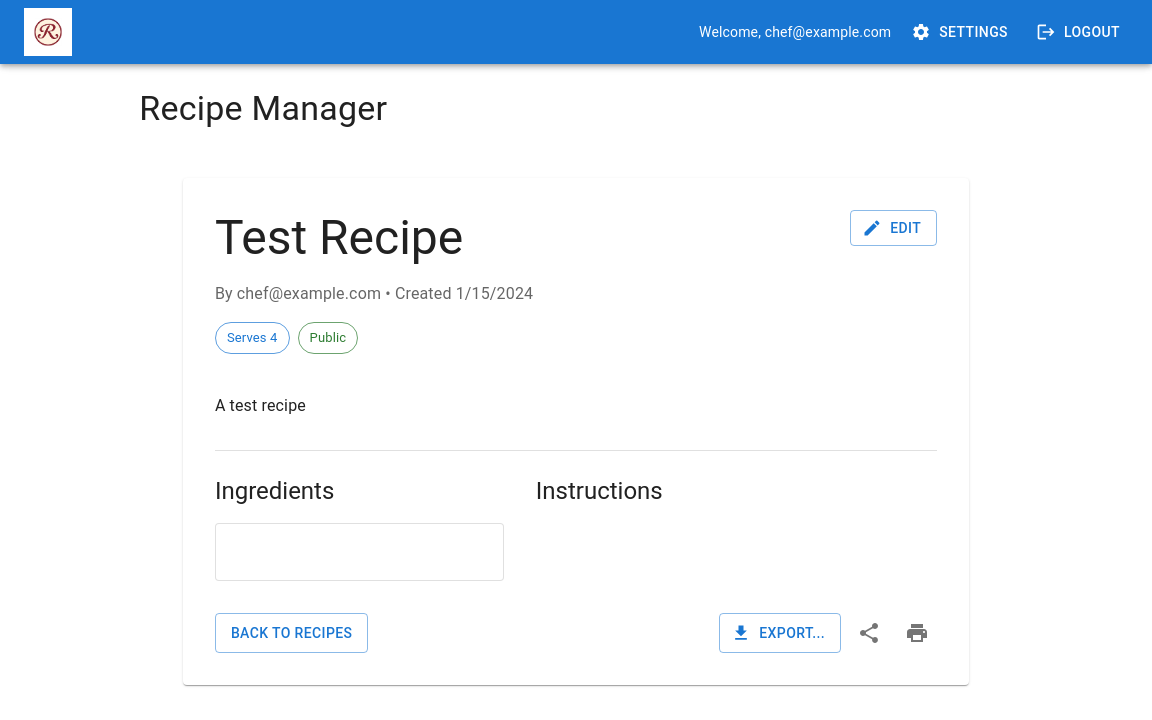
Test: RecipeViewPage › PDF font size › font size selector includes Small, Medium, Large options
The width and height of the screenshot is (1152, 720).
expect the heading "Test Recipe" is shown: met, box [215,209,463,266]
Click the button "Export...": (780, 633) [719,613,841,653]
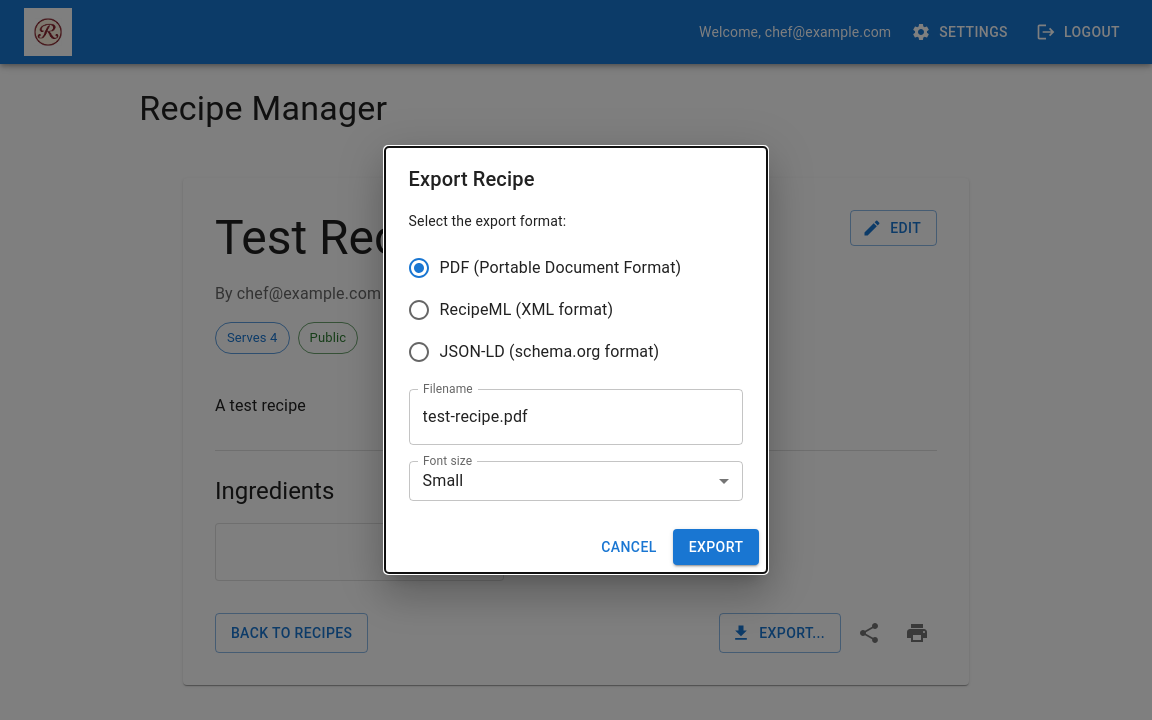
expect the dropdown named "font size" is shown: met
Press the mouse on the dropdown named "font size": (443, 481) [423,471,463,490]
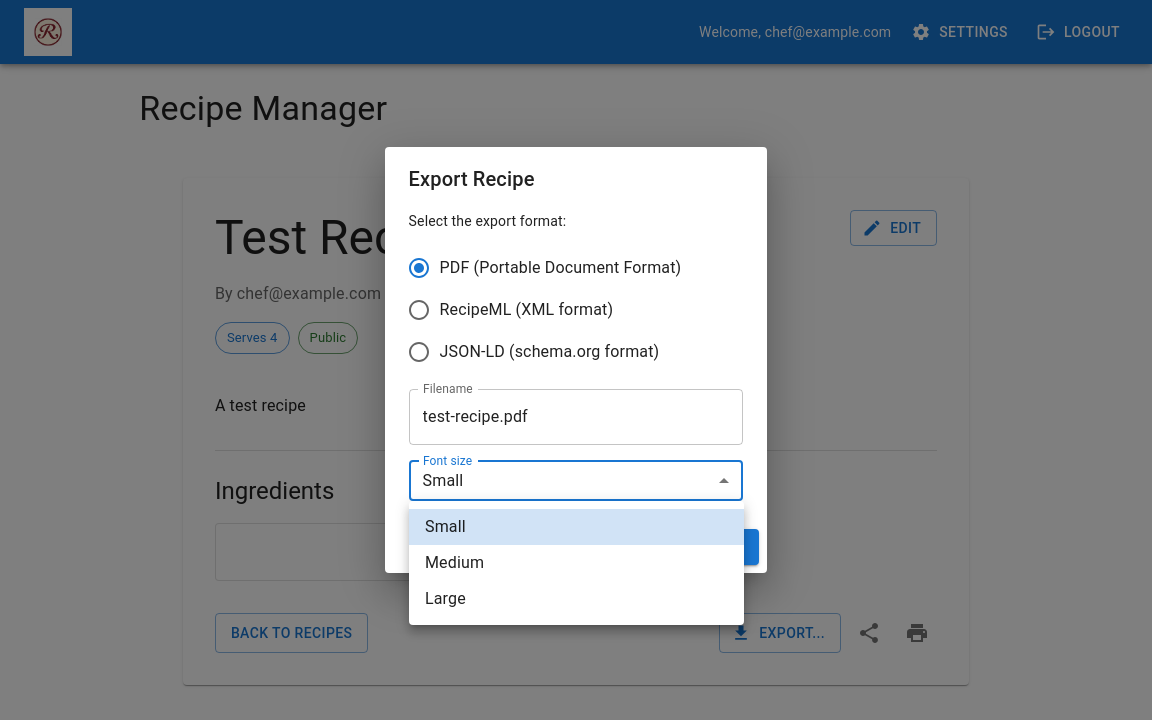
expect the option "Small" is shown: met, box [409,509,744,545]
expect the option "Medium" is shown: met, box [425,553,484,572]
expect the option "Large" is shown: met, box [425,589,466,608]
